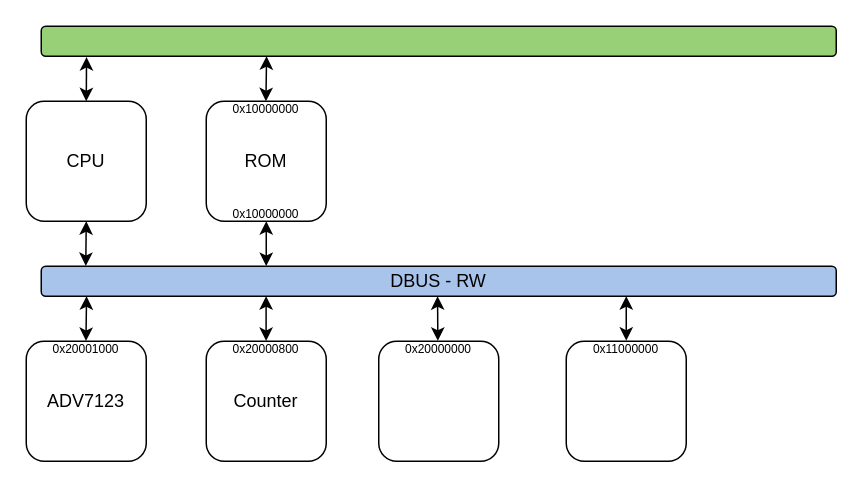
This 863x488 diagram has some shape labels left out. The box of each missing label's shape, as (x1, y1, x2, y2) in pixels:
IBUS - R: (40, 25, 836, 56)
RAM: (565, 340, 686, 461)
UART0: (377, 340, 499, 461)
